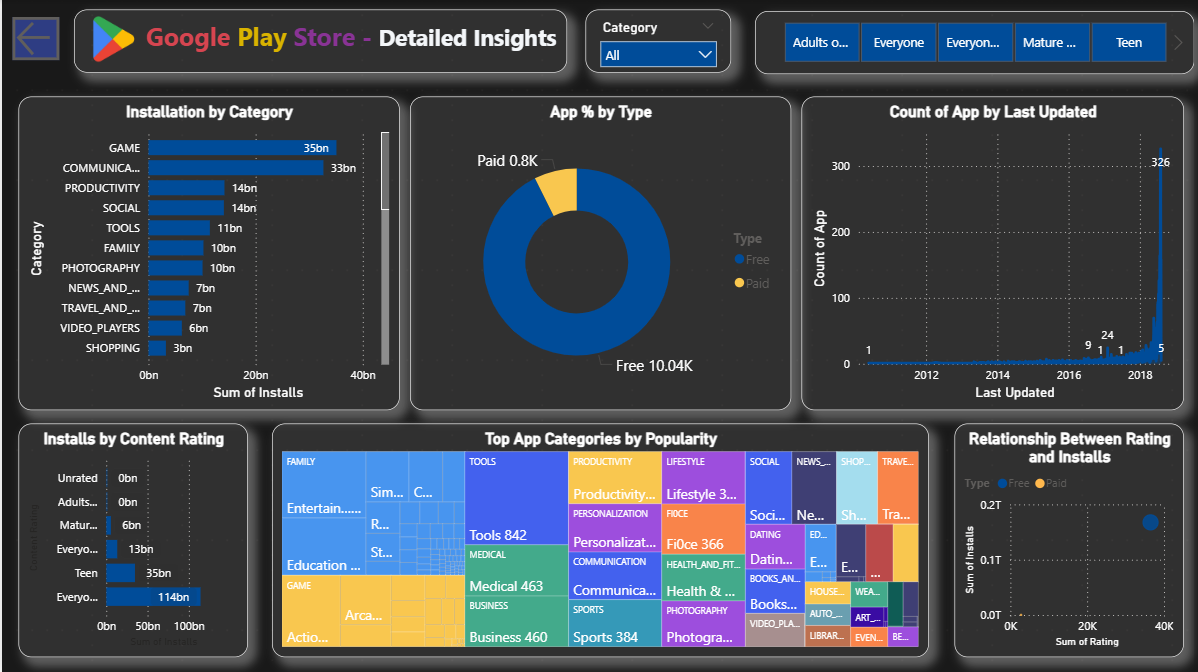

Layout of this report page (visuals, bound fields, positions):
{"tool":"powerbi","page":{"name":"Page 2","canvas":[1280,720],"ordinal":1},"visuals":[{"type":"barChart","title":"Installation by Category","fields":{"Category":["googleplaystore (1).Category"],"Y":["Sum(googleplaystore (1).Installs)"]},"box":[17.6,104,406.4,334.4],"z":0},{"type":"donutChart","title":"App % by Type","fields":{"Category":["googleplaystore (1).Type"],"Y":["CountNonNull(googleplaystore (1).App)"]},"box":[435.2,104,406.4,334.4],"z":1000},{"type":"areaChart","fields":{"Category":["googleplaystore (1).Last Updated"],"Y":["CountNonNull(googleplaystore (1).App)"]},"box":[852.8,104,408,334.4],"z":2000},{"type":"barChart","title":" Installs by Content Rating","fields":{"Category":["googleplaystore (1).Content Rating"],"Y":["Sum(googleplaystore (1).Installs)"]},"box":[17.6,452.8,244.8,249.6],"z":3000},{"type":"slicer","fields":{"Values":["googleplaystore (1).Category"]},"box":[622.1,11.5,155.5,67],"z":4000},{"type":"treemap","title":"Top App Categories by Popularity","fields":{"Group":["googleplaystore (1).Category"],"Details":["googleplaystore (1).Genres"],"Values":["CountNonNull(googleplaystore (1).App)"]},"box":[288,452.8,700.8,249.6],"z":5000},{"type":"textbox","box":[76.8,11.5,526.1,67],"z":6000},{"type":"scatterChart","title":"Relationship Between Rating and Installs","fields":{"X":["Sum(googleplaystore (1).Rating)"],"Y":["Sum(googleplaystore (1).Installs)"],"Size":["Sum(googleplaystore (1).Reviews)"],"Series":["googleplaystore (1).Type"]},"box":[1016,452.8,244.8,249.6],"z":7000},{"type":"slicer","fields":{"Values":["googleplaystore (1).Content Rating"]},"box":[802.6,13.4,468.5,67],"z":8000},{"type":"image","box":[86.4,13.4,65.3,59.5],"z":9000},{"type":"actionButton","box":[11.5,19.2,49.9,46.1],"z":9001}]}

Visuals, with their boxes in screenshot pixels (x1, y1, x2, y2), scaled from the page's 1280x720 canvas onto the 1198x672 screenshot:
"Installation by Category" barChart: [left=16, top=97, right=397, bottom=409]
"App % by Type" donutChart: [left=407, top=97, right=788, bottom=409]
areaChart - googleplaystore (1).Last Updated x CountNonNull(googleplaystore (1).App): [left=798, top=97, right=1180, bottom=409]
" Installs by Content Rating" barChart: [left=16, top=423, right=246, bottom=656]
slicer - googleplaystore (1).Category: [left=582, top=11, right=728, bottom=73]
"Top App Categories by Popularity" treemap: [left=270, top=423, right=925, bottom=656]
textbox: [left=72, top=11, right=564, bottom=73]
"Relationship Between Rating and Installs" scatterChart: [left=951, top=423, right=1180, bottom=656]
slicer - googleplaystore (1).Content Rating: [left=751, top=13, right=1190, bottom=75]
image: [left=81, top=13, right=142, bottom=68]
actionButton: [left=11, top=18, right=57, bottom=61]
